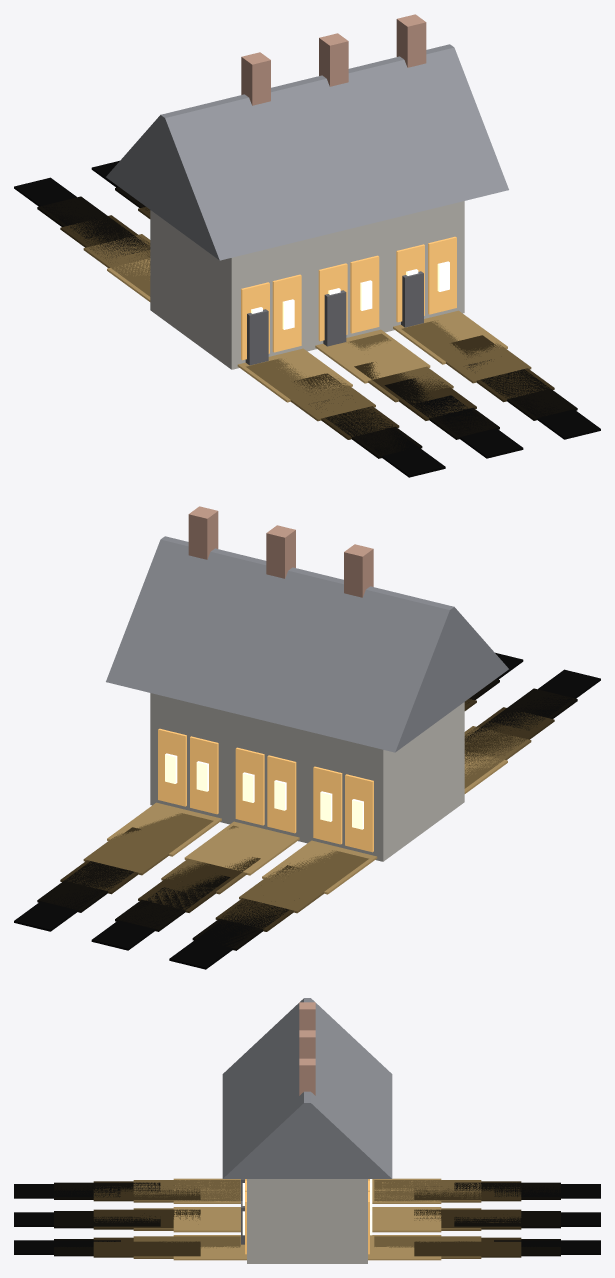
File: town_terrace_stone.glb
The picture shows the model from 3 angles, top to bottom: view 1: azimuth 30°, elevation 25°; view 2: azimuth 150°, elevation 25°; view 3: azimuth 270°, elevation 25°; orthographic projection. The views are drawn at different scales.
Parts seen in each view (by area): view 1: town_terrace_stone; view 2: town_terrace_stone; view 3: town_terrace_stone.
Boxes of the visible parts, x1,y1,x2,y2 form: town_terrace_stone: (14, 14, 600, 477); town_terrace_stone: (14, 506, 600, 969); town_terrace_stone: (14, 998, 600, 1263).
Bounding box in the file's own units: 0.8364 × 0.7337 × 1.98.
